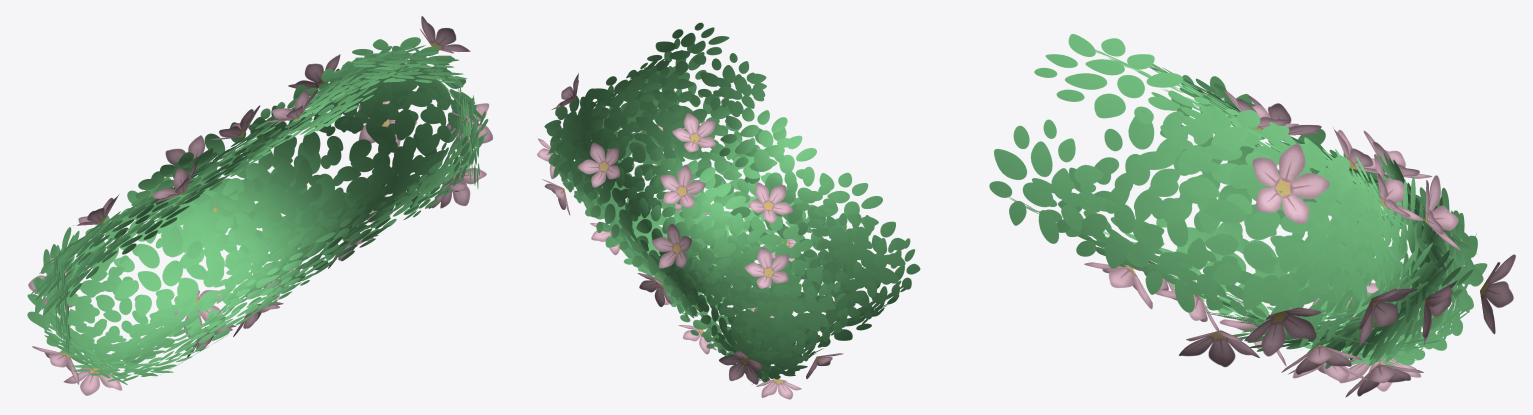
The model's file is qn_bush_large.glb.
3 views of the same model, side by side, from view 1: azimuth 30°, elevation 25°; view 2: azimuth 150°, elevation 25°; view 3: azimuth 270°, elevation 25° (orthographic). The views are drawn at different scales.
Parts seen in each view (by area): view 1: Bush_Large_Flowers.001; view 2: Bush_Large_Flowers.001; view 3: Bush_Large_Flowers.001.
Part boxes in pixels (left/top/right/bottom): Bush_Large_Flowers.001: left=27, top=16, right=492, bottom=395; Bush_Large_Flowers.001: left=537, top=22, right=920, bottom=399; Bush_Large_Flowers.001: left=989, top=34, right=1515, bottom=397.
Size of the model in its own units: 2 by 1.38 by 1.51.
2 materials, 2 textured.
